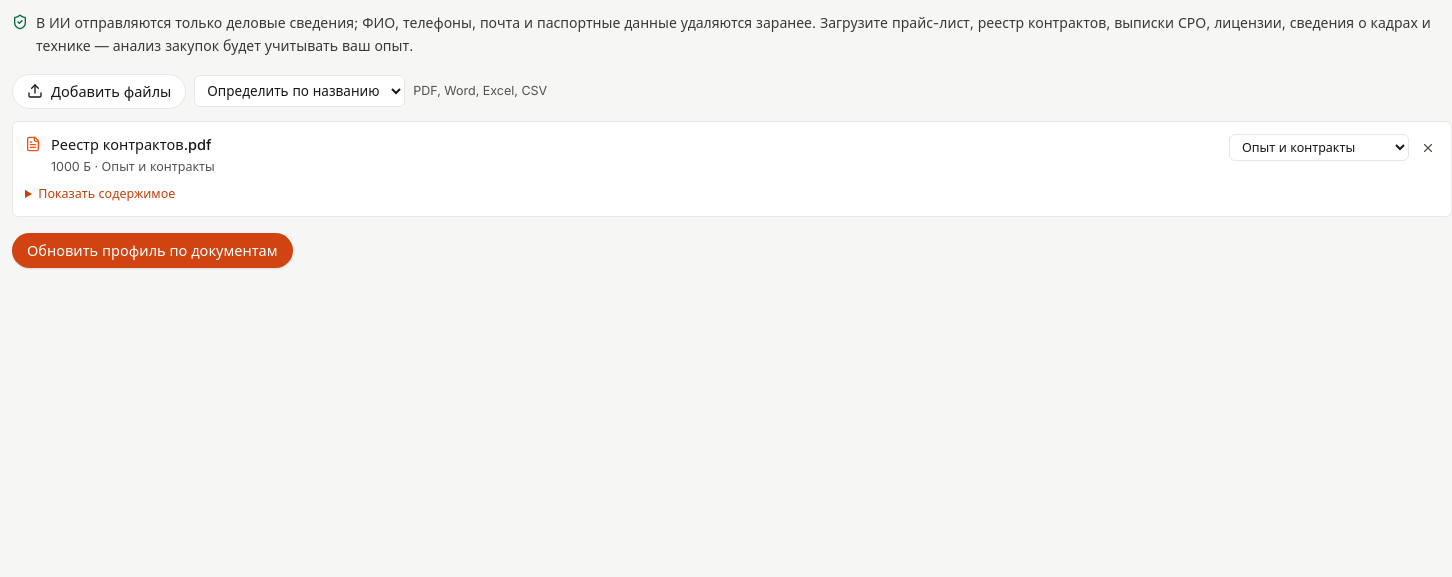
CompanyFactsSection › ошибка сервера показывается, предпросмотр остаётся — можно повторить
Step 1. Click the button "Обновить профиль по документам" → {"x": 152, "y": 250}, box [12,232,292,268]
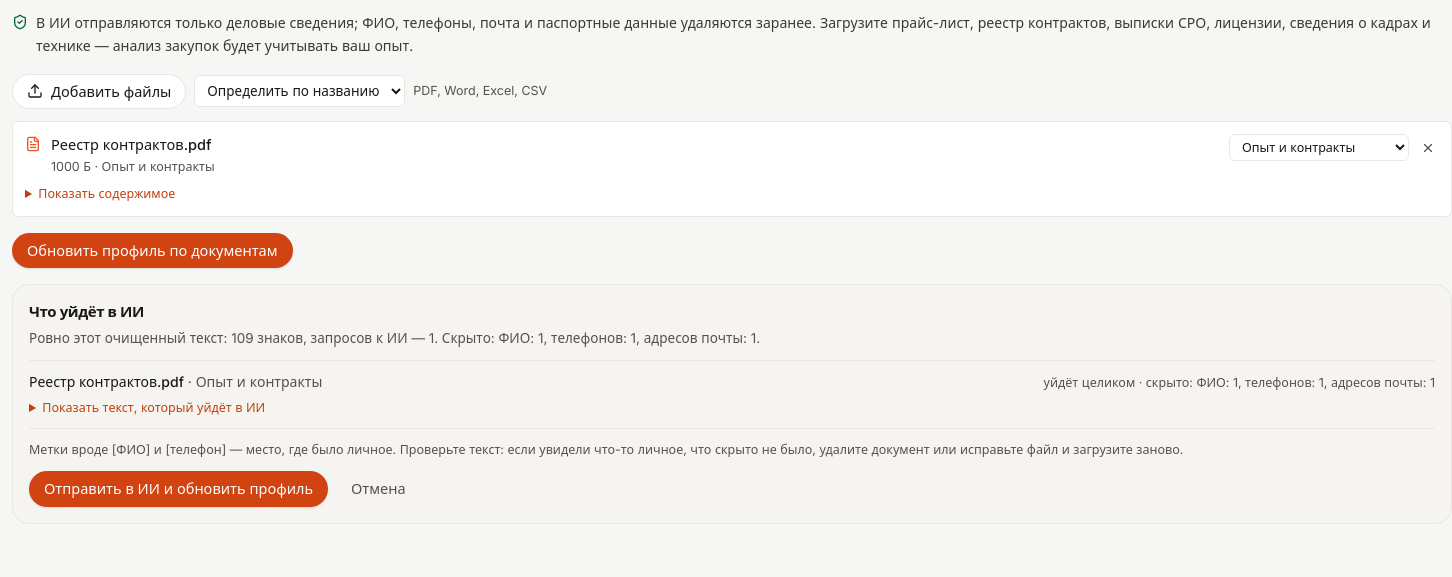
Step 2. Click the button "Отправить в ИИ и обновить профиль" → {"x": 178, "y": 489}, box [29,471,328,507]
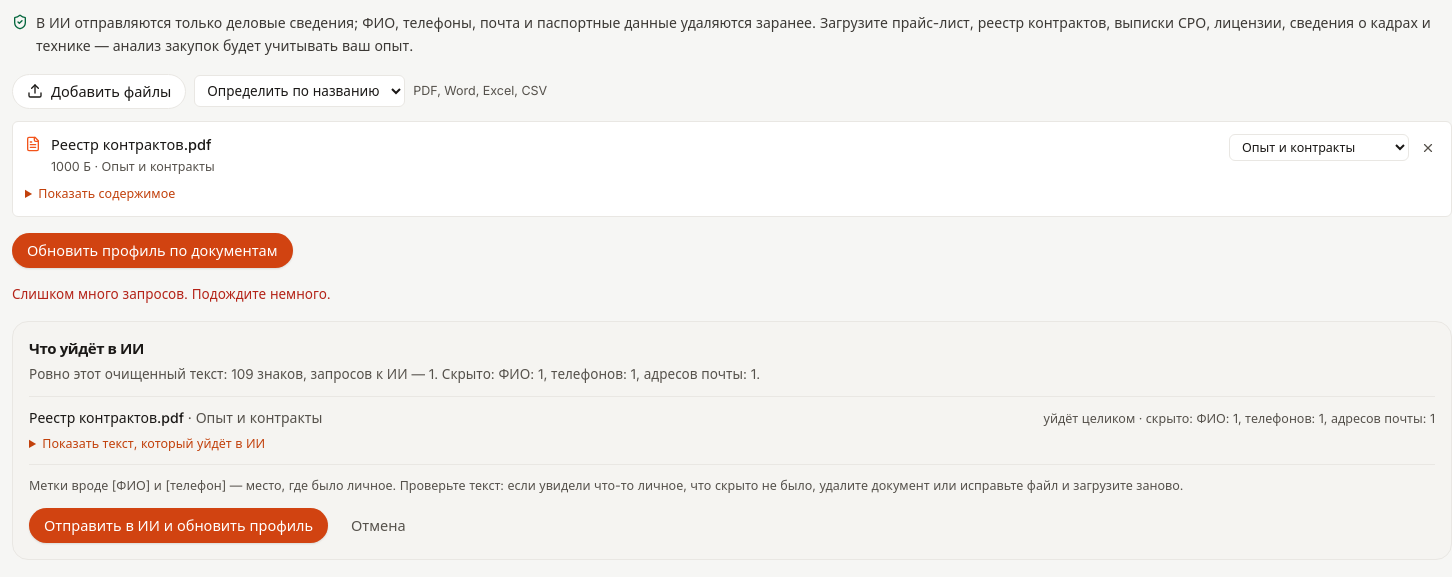
Check: the element with test id "send-preview" is shown, box [12,320,1451,560]
Check: the message shows "Слишком много запросов", box [12,286,331,302]
